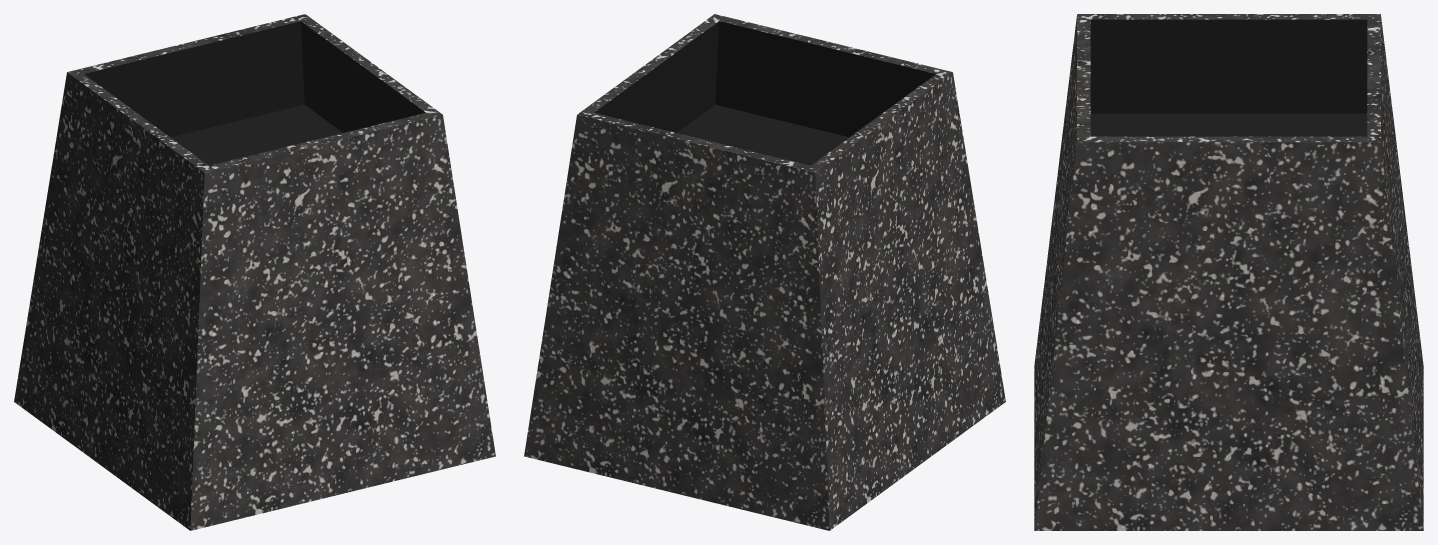
File: pawn-black.glb
3 views of the same model, side by side, from view 1: azimuth 30°, elevation 25°; view 2: azimuth 150°, elevation 25°; view 3: azimuth 270°, elevation 25° (orthographic). The views are drawn at different scales.
Visible parts, largest first — view 1: Black_Pawn; view 2: Black_Pawn; view 3: Black_Pawn.
Boxes of the visible parts, bbox=[...] form: Black_Pawn: bbox=[14, 14, 495, 530]; Black_Pawn: bbox=[524, 14, 1005, 530]; Black_Pawn: bbox=[1034, 14, 1423, 530].
Bounding box in the file's own units: 0.6857 × 0.72 × 0.6857.
Materials: 2 (1 with a texture image).
